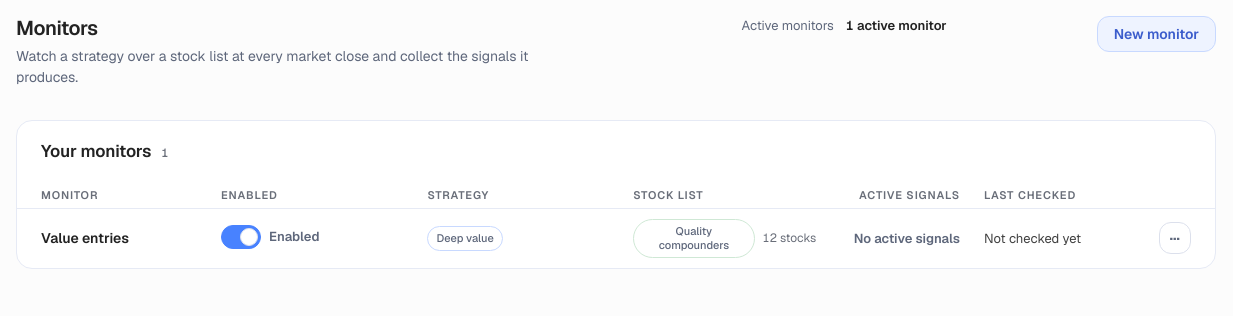
Test case: MonitorsPage › leaves the row on its real state when the toggle fails
This screenshot has width=1233, height=316.
Click the switch with test id "monitor-enabled-switch": coordinates (241, 237) [221,225,261,249]
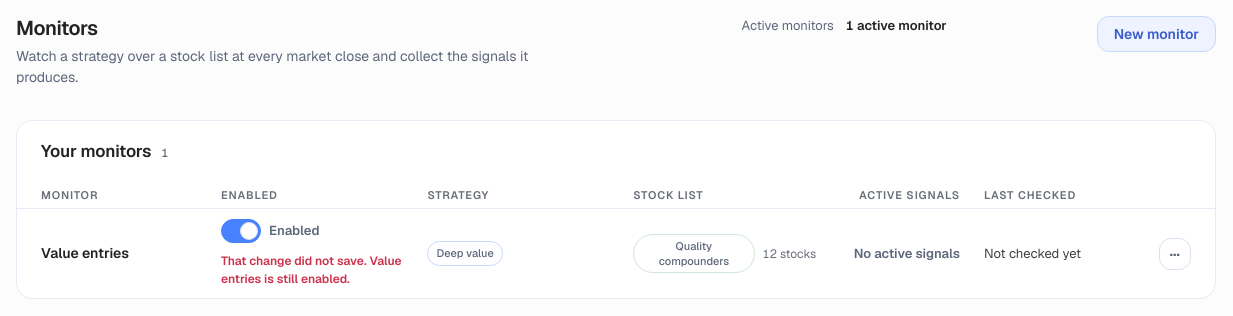
Result: the text "That change did not save. Value entries is still" is shown at [221,253,402,287]
